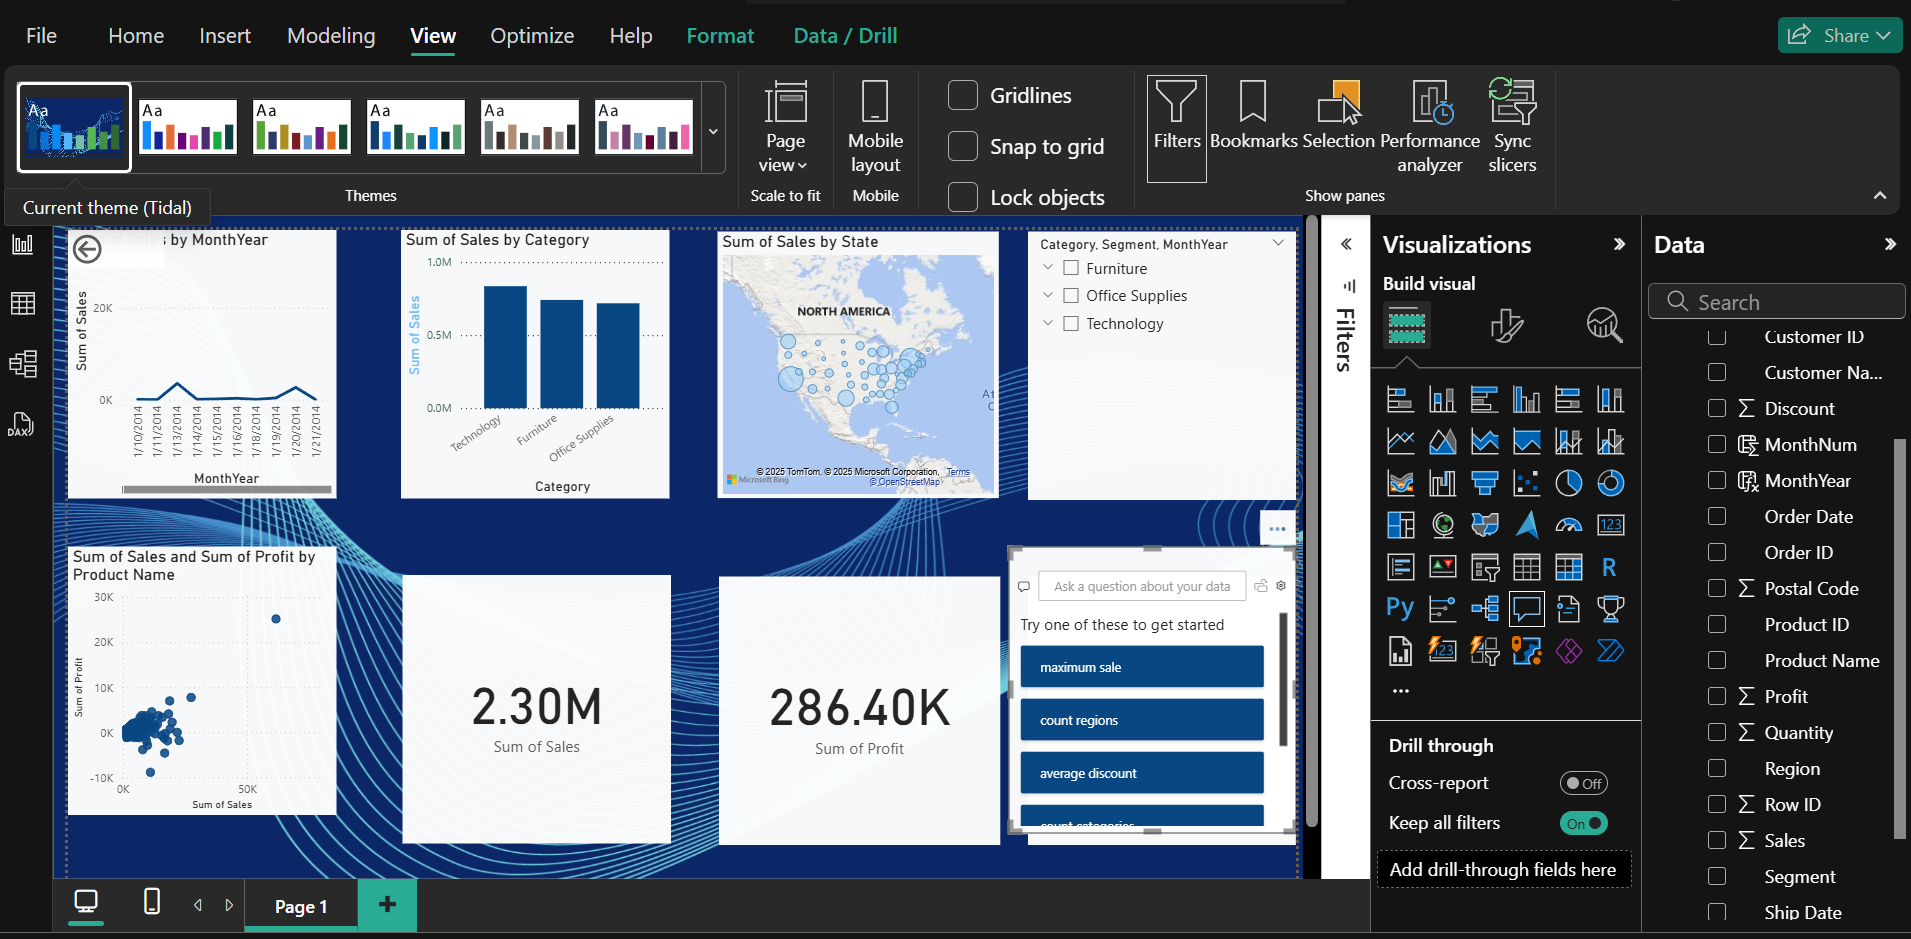

The dashboard page shown, as its layout file describes it:
{"tool":"powerbi","page":{"name":"Page 1","canvas":[1280,720],"ordinal":0},"visuals":[{"type":"lineChart","fields":{"Category":["Superstore Sales.MonthYear"],"Y":["Sum(Superstore Sales.Sales)"]},"box":[0,0,279.9,279.9],"z":0},{"type":"columnChart","fields":{"Category":["Superstore Sales.Category"],"Y":["Sum(Superstore Sales.Sales)"]},"box":[347.9,0,279.9,279.9],"z":1000},{"type":"map","fields":{"Size":["Sum(Superstore Sales.Sales)"],"Category":["Superstore Sales.State"]},"box":[677.5,1.7,293.2,278.3],"z":2000},{"type":"slicer","fields":{"Values":["Superstore Sales.Category","Superstore Sales.Segment","Superstore Sales.MonthYear"]},"box":[1000.5,1.7,279.9,279.9],"z":2001},{"type":"scatterChart","fields":{"X":["Sum(Superstore Sales.Sales)"],"Y":["Sum(Superstore Sales.Profit)"],"Category":["Superstore Sales.Product Name"]},"box":[0,350.4,280,280],"z":2002},{"type":"actionButton","box":[0,0,100,40],"z":2003},{"type":"card","fields":{"Values":["Sum(Superstore Sales.Sales)"]},"box":[331.6,350.4,280,280],"z":2004},{"type":"card","fields":{"Values":["Sum(Superstore Sales.Profit)"]},"box":[655.4,350.4,294.1,280],"z":2005},{"type":"qnaVisual","box":[980.7,350.4,300.3,278.4],"z":2007}]}

Visuals, with their boxes on the page's 1280x720 design canvas (x1, y1, x2, y2). These are canvas units, not pixel positions in the 1911x939 screenshot, which may show the page scaled, cropped or inside an application window:
lineChart - Superstore Sales.MonthYear x Sum(Superstore Sales.Sales): rect(0, 0, 280, 280)
columnChart - Superstore Sales.Category x Sum(Superstore Sales.Sales): rect(348, 0, 628, 280)
map - Sum(Superstore Sales.Sales) x Superstore Sales.State: rect(678, 2, 971, 280)
slicer - Superstore Sales.Category x Superstore Sales.Segment: rect(1000, 2, 1280, 282)
scatterChart - Sum(Superstore Sales.Sales) x Sum(Superstore Sales.Profit): rect(0, 350, 280, 630)
actionButton: rect(0, 0, 100, 40)
card - Sum(Superstore Sales.Sales): rect(332, 350, 612, 630)
card - Sum(Superstore Sales.Profit): rect(655, 350, 950, 630)
qnaVisual: rect(981, 350, 1281, 629)
